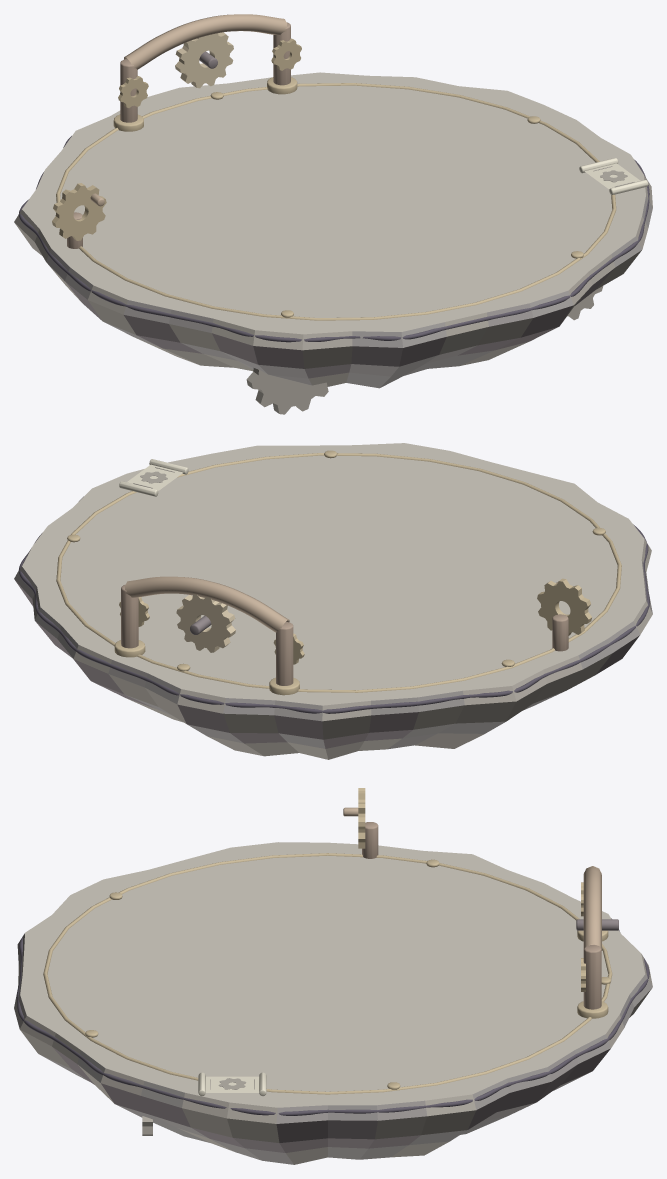
Rendered from env_clockwork_arcade.glb.
3 renders of one model, top to bottom at view 1: azimuth 30°, elevation 25°; view 2: azimuth 150°, elevation 25°; view 3: azimuth 270°, elevation 25°, orthographic.
Parts seen in each view (by area): view 1: island_flat_top_zero.001, clockwork_perimeter_inlay, island_dark_neutral_rim.001, gate_arch_lintel, clockwork_story_counterweight, clockwork_underside_cog, clockwork_handwheel, gate_support_rosette, gate_support_rosette.001, gate_rounded_support, clockwork_repair_scroll, gate_rounded_support.001; view 2: island_flat_top_zero.001, clockwork_perimeter_inlay, island_dark_neutral_rim.001, gate_arch_lintel, clockwork_story_counterweight, clockwork_handwheel, gate_rounded_support, gate_rounded_support.001, clockwork_repair_scroll, crank_wood_stand; view 3: island_flat_top_zero.001, clockwork_perimeter_inlay, island_dark_neutral_rim.001, gate_arch_lintel, gate_rounded_support.001, clockwork_repair_scroll.
Part boxes in pixels (<box>): island_flat_top_zero.001: <box>14,72,652,388</box>; clockwork_perimeter_inlay: <box>56,83,616,320</box>; island_dark_neutral_rim.001: <box>19,136,649,342</box>; gate_arch_lintel: <box>124,14,287,69</box>; clockwork_story_counterweight: <box>175,32,233,88</box>; clockwork_underside_cog: <box>246,368,328,414</box>; clockwork_handwheel: <box>52,183,106,240</box>; gate_support_rosette: <box>118,76,148,107</box>; gate_support_rosette.001: <box>271,38,301,70</box>; gate_rounded_support: <box>120,59,137,122</box>; clockwork_repair_scroll: <box>585,163,640,189</box>; gate_rounded_support.001: <box>273,22,290,85</box>; island_flat_top_zero.001: <box>14,443,652,759</box>; clockwork_perimeter_inlay: <box>56,453,621,692</box>; island_dark_neutral_rim.001: <box>18,496,649,713</box>; gate_arch_lintel: <box>125,576,289,632</box>; clockwork_story_counterweight: <box>176,594,235,652</box>; clockwork_handwheel: <box>537,578,592,635</box>; gate_rounded_support: <box>276,622,293,685</box>; gate_rounded_support.001: <box>121,584,138,648</box>; clockwork_repair_scroll: <box>127,464,183,490</box>; crank_wood_stand: <box>552,614,568,651</box>; island_flat_top_zero.001: <box>14,842,652,1164</box>; clockwork_perimeter_inlay: <box>43,853,612,1094</box>; island_dark_neutral_rim.001: <box>16,918,649,1115</box>; gate_arch_lintel: <box>583,866,601,950</box>; gate_rounded_support.001: <box>583,945,601,1009</box>; clockwork_repair_scroll: <box>206,1076,259,1092</box>.
Bounding box in the file's own units: 9.12 × 3.71 × 9.05.
